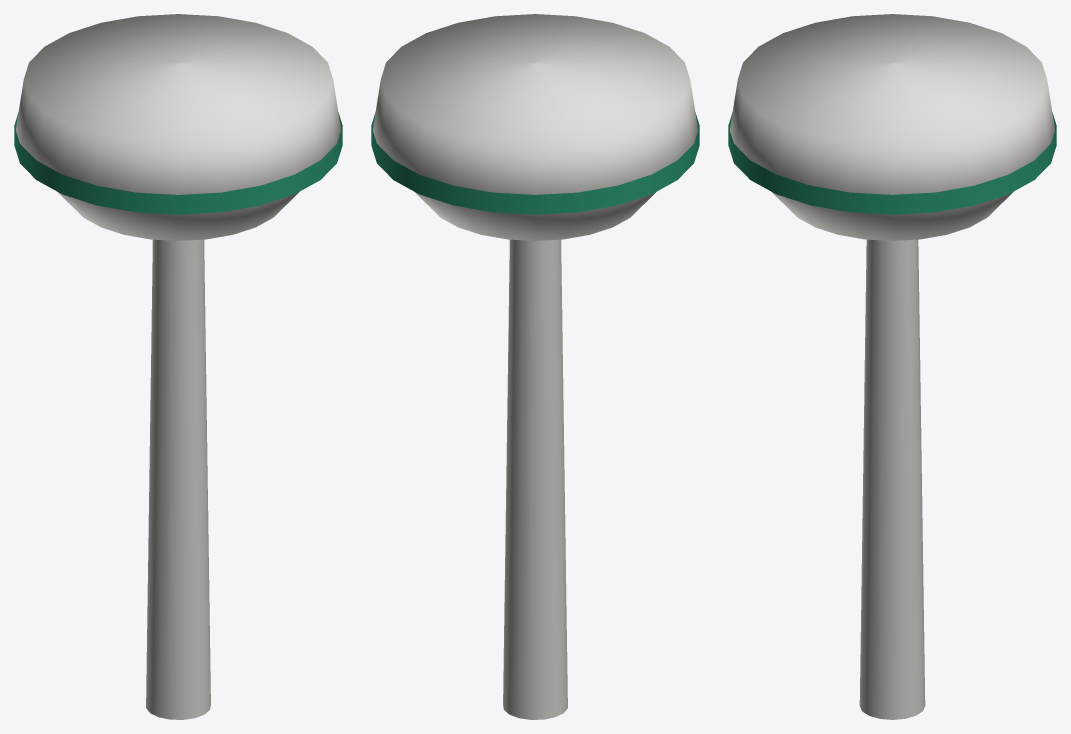
File: SM_WaterTower.fbx
3 renders of one model, left to right at view 1: azimuth 30°, elevation 25°; view 2: azimuth 150°, elevation 25°; view 3: azimuth 270°, elevation 25°, orthographic.
Parts seen in each view (by area): view 1: SM_WaterTower; view 2: SM_WaterTower; view 3: SM_WaterTower.
Part boxes in pixels (box(x1,y1,x2,y2)): SM_WaterTower: box(14, 14, 342, 719); SM_WaterTower: box(371, 14, 699, 719); SM_WaterTower: box(728, 14, 1056, 719).
Bounding box in the file's own units: 1804 × 3900 × 1804.
